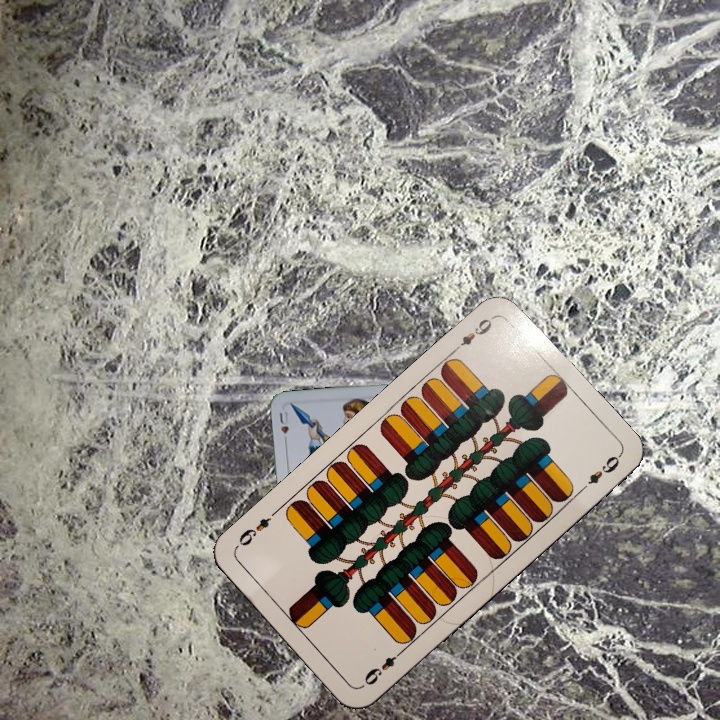E9: (358, 645, 407, 690), (448, 312, 497, 355)
HU: (275, 407, 292, 447)
